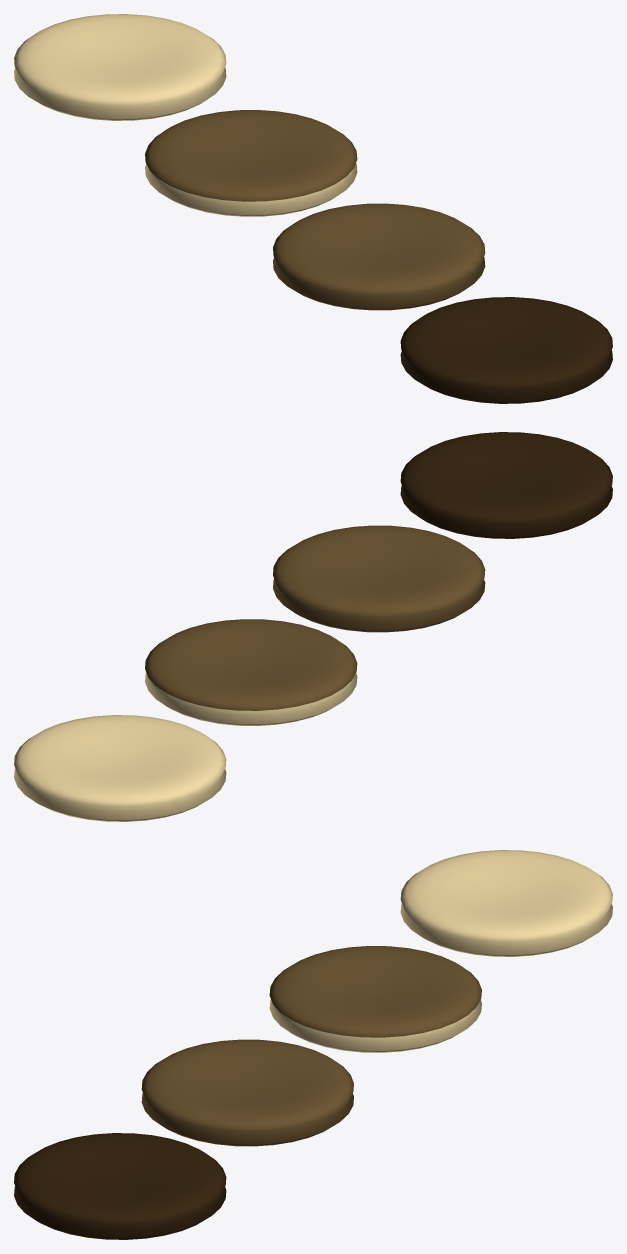
File: pancake_all.glb
3 views of the same model, one above another, from view 1: azimuth 30°, elevation 25°; view 2: azimuth 150°, elevation 25°; view 3: azimuth 330°, elevation 25° (orthographic).
Visible parts, largest first — view 1: Sphere.003, Sphere, Sphere.002, Sphere.001; view 2: Sphere.003, Sphere, Sphere.002, Sphere.001; view 3: Sphere.003, Sphere, Sphere.002, Sphere.001.
Boxes of the visible parts, bbox=[...] form: Sphere.003: bbox=[273, 203, 485, 310]; Sphere: bbox=[14, 14, 226, 120]; Sphere.002: bbox=[400, 297, 612, 403]; Sphere.001: bbox=[145, 110, 357, 216]; Sphere.003: bbox=[273, 525, 485, 632]; Sphere: bbox=[14, 715, 226, 821]; Sphere.002: bbox=[400, 432, 612, 538]; Sphere.001: bbox=[145, 619, 357, 725]; Sphere.003: bbox=[141, 1039, 353, 1146]; Sphere: bbox=[400, 850, 612, 956]; Sphere.002: bbox=[14, 1133, 226, 1239]; Sphere.001: bbox=[269, 946, 481, 1052].
Size of the model in its own units: 1.96 by 0.2807 by 9.09.
